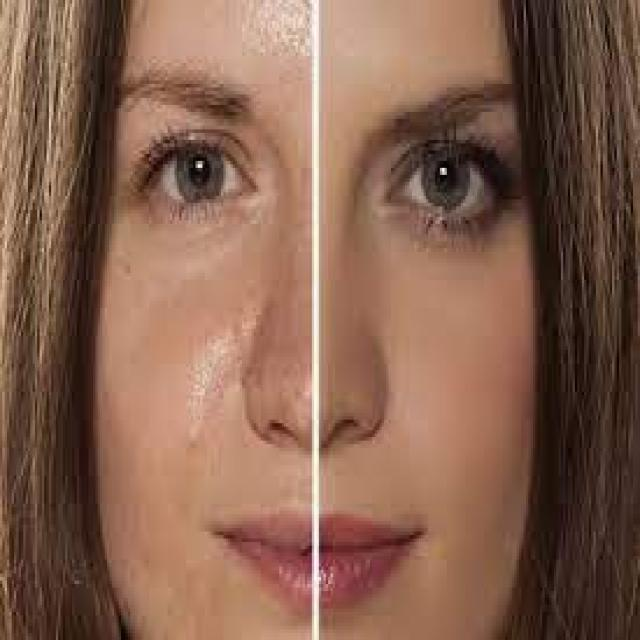Oily-Skin: (124, 254, 232, 493), (182, 6, 311, 62)
